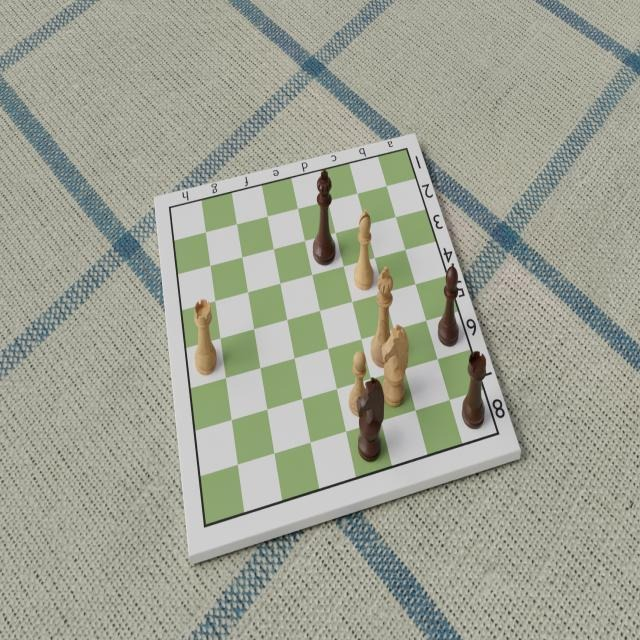black-bishop: (436, 262, 459, 350)
black-king: (312, 169, 338, 268)
black-knight: (356, 376, 384, 463)
black-rook: (461, 348, 487, 432)
white-bishop: (353, 207, 375, 293)
white-king: (369, 265, 395, 369)
white-knight: (380, 324, 410, 407)
white-pawn: (348, 348, 370, 418)
white-rook: (192, 295, 218, 377)
